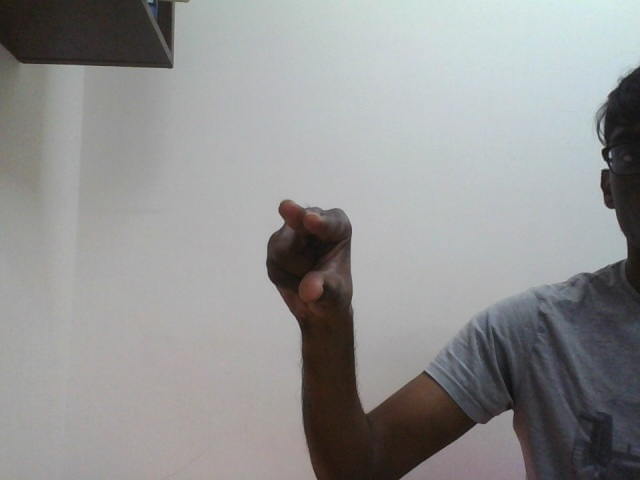No: (266, 193, 358, 310)
